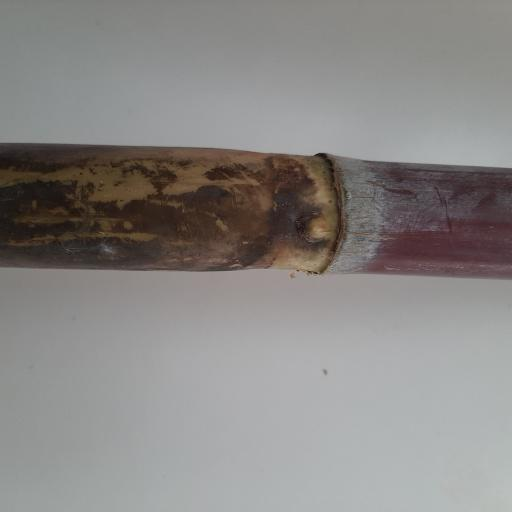Bud: (301, 215, 334, 243)
